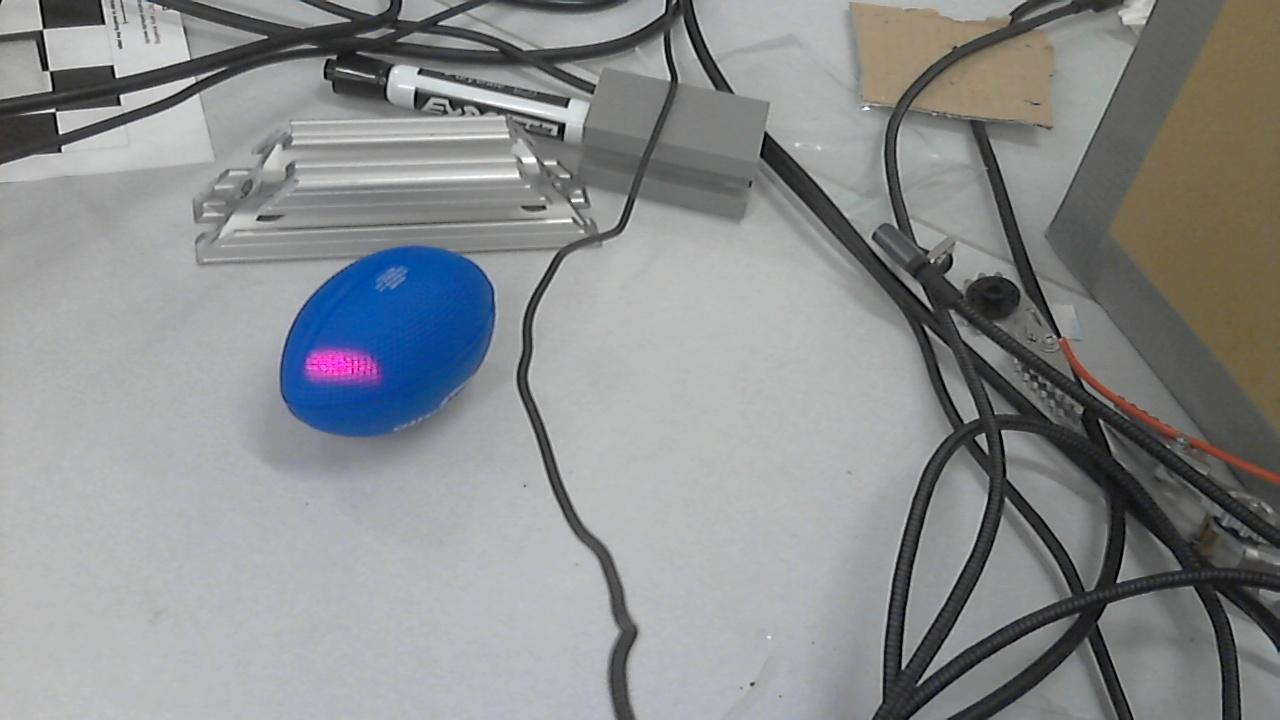Object toy football - Material foam - Color blue - Pdfname VT1ffZoLOnKv: (276, 341, 387, 393)
